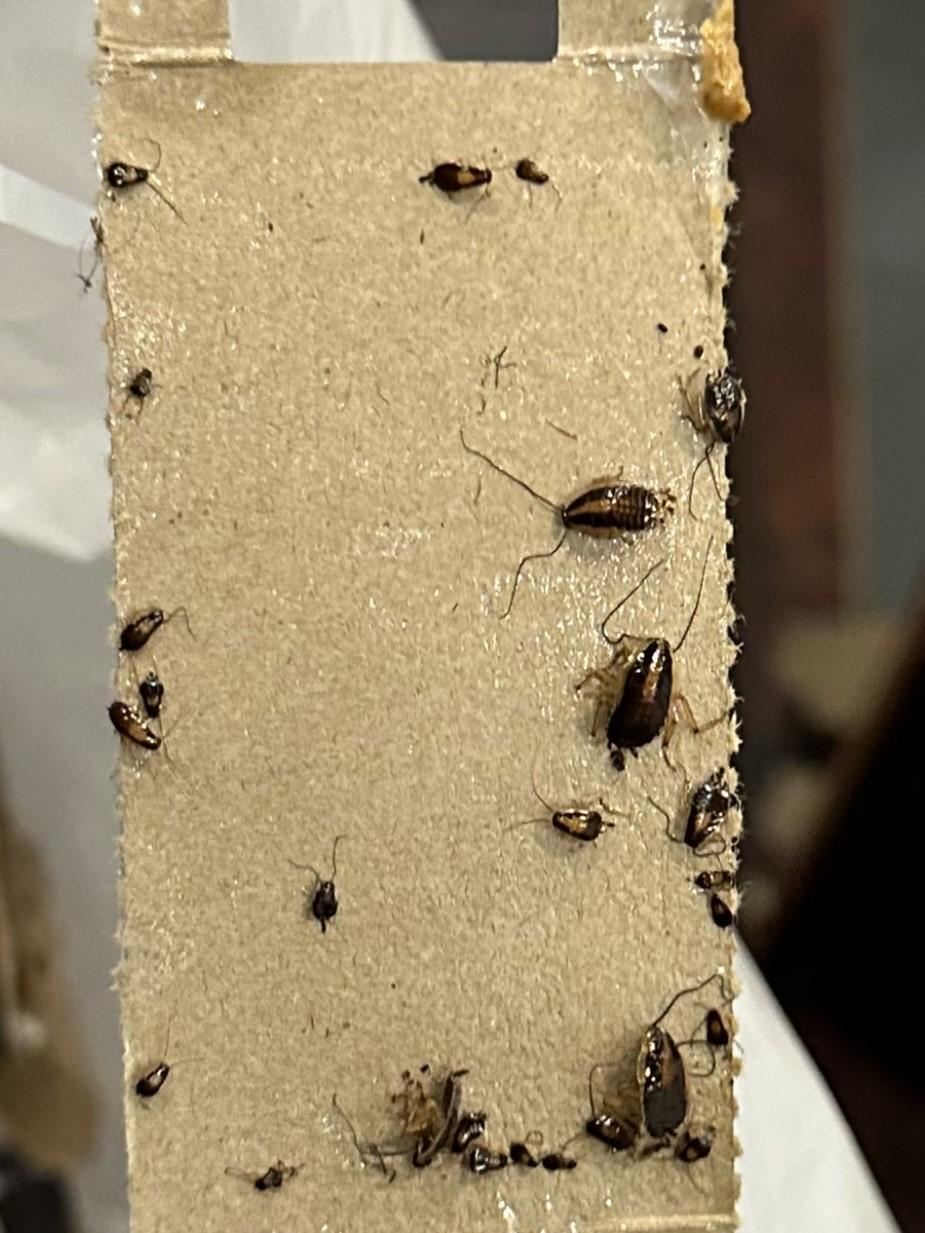cockroach: (425, 410, 678, 603), (555, 543, 738, 762), (320, 1038, 462, 1194), (620, 963, 720, 1166), (70, 113, 205, 257), (670, 333, 758, 541), (260, 813, 376, 952), (390, 133, 512, 255), (82, 333, 185, 457), (110, 1026, 235, 1128), (92, 580, 205, 676), (494, 130, 572, 225), (92, 698, 182, 768), (210, 1148, 309, 1202), (126, 666, 202, 728)
